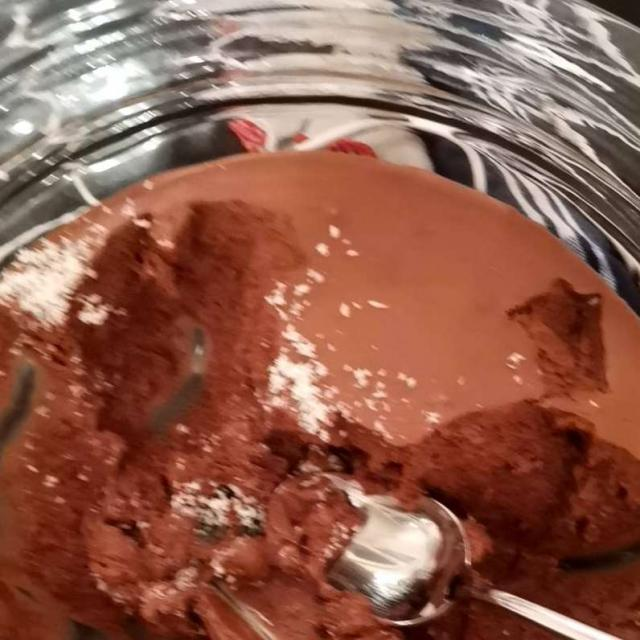chocolate-mousse: (12, 141, 638, 634)
